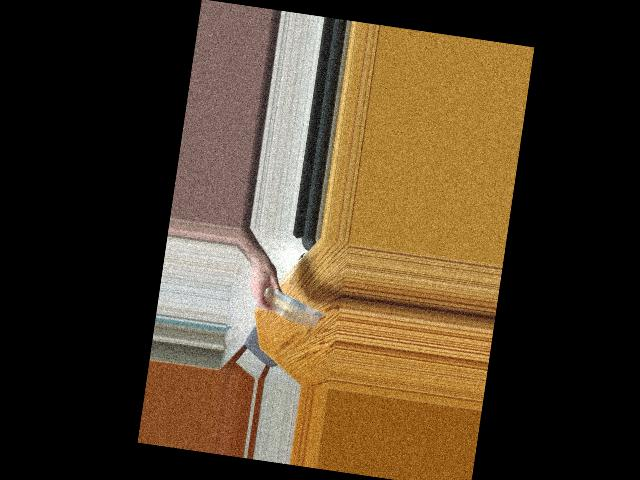cheese: (255, 291, 326, 325)
